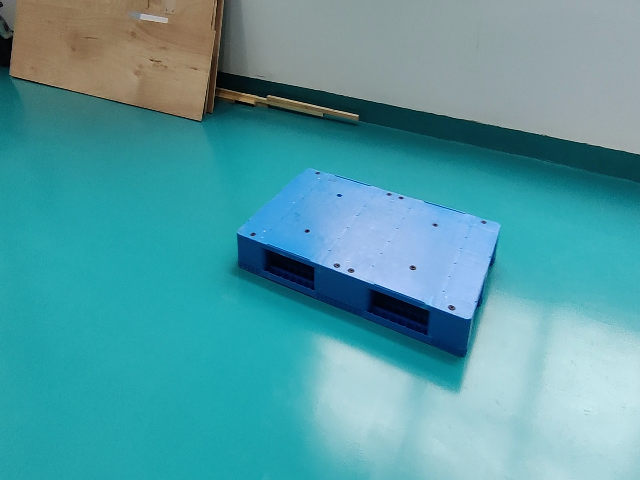block: (313, 263, 370, 316), (427, 307, 467, 356), (236, 233, 264, 274)
